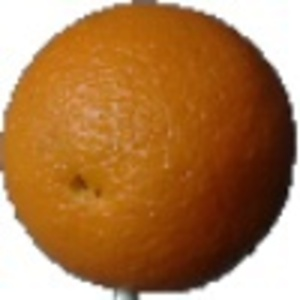laranja: (3, 2, 298, 297)
